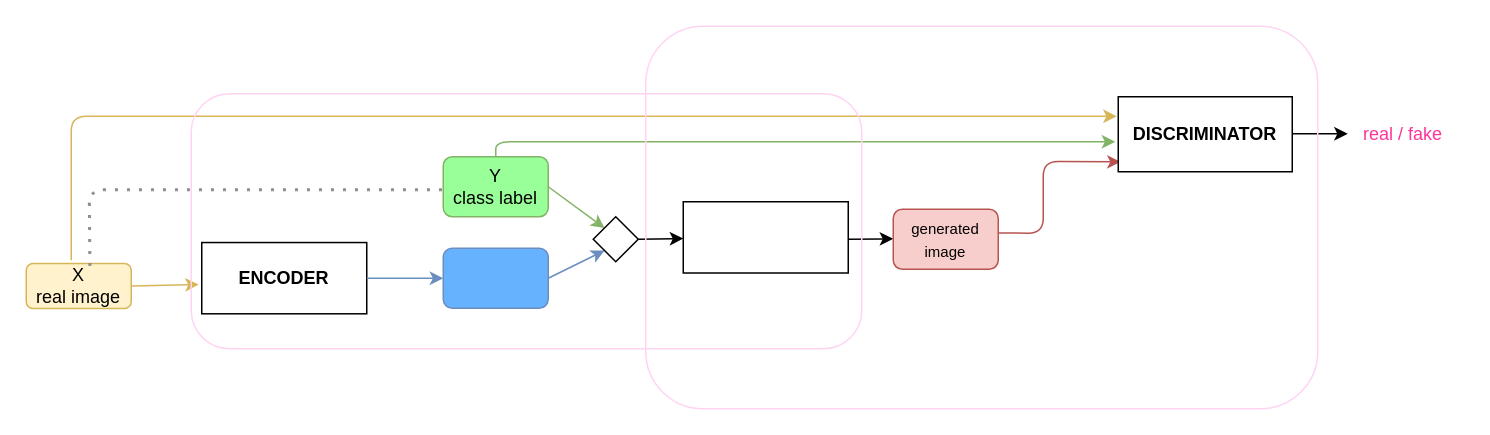
This 1490x435 diagram has some shape labels left out. Here are the shapes that lost their labels. From the top down, the box of each, then its label:
(682, 200, 848, 273): GENERATOR
(442, 247, 548, 308): Z latent point
